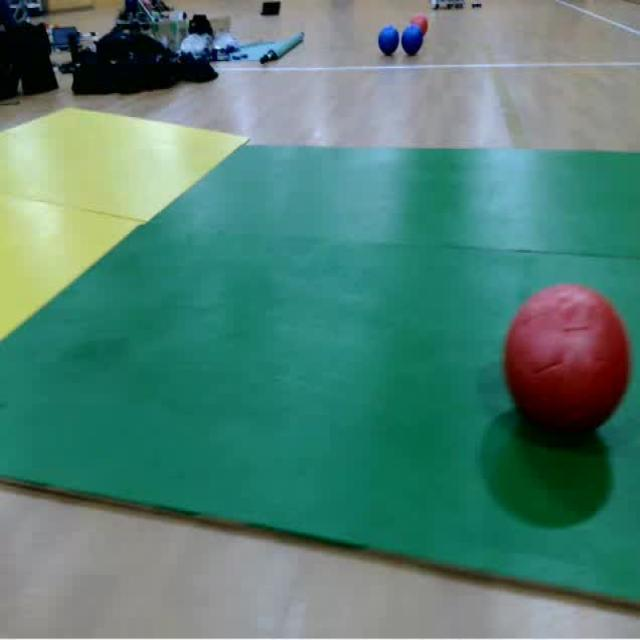blue_ball: (402, 26, 423, 54), (380, 27, 400, 54)
red_ball: (503, 281, 632, 438)
